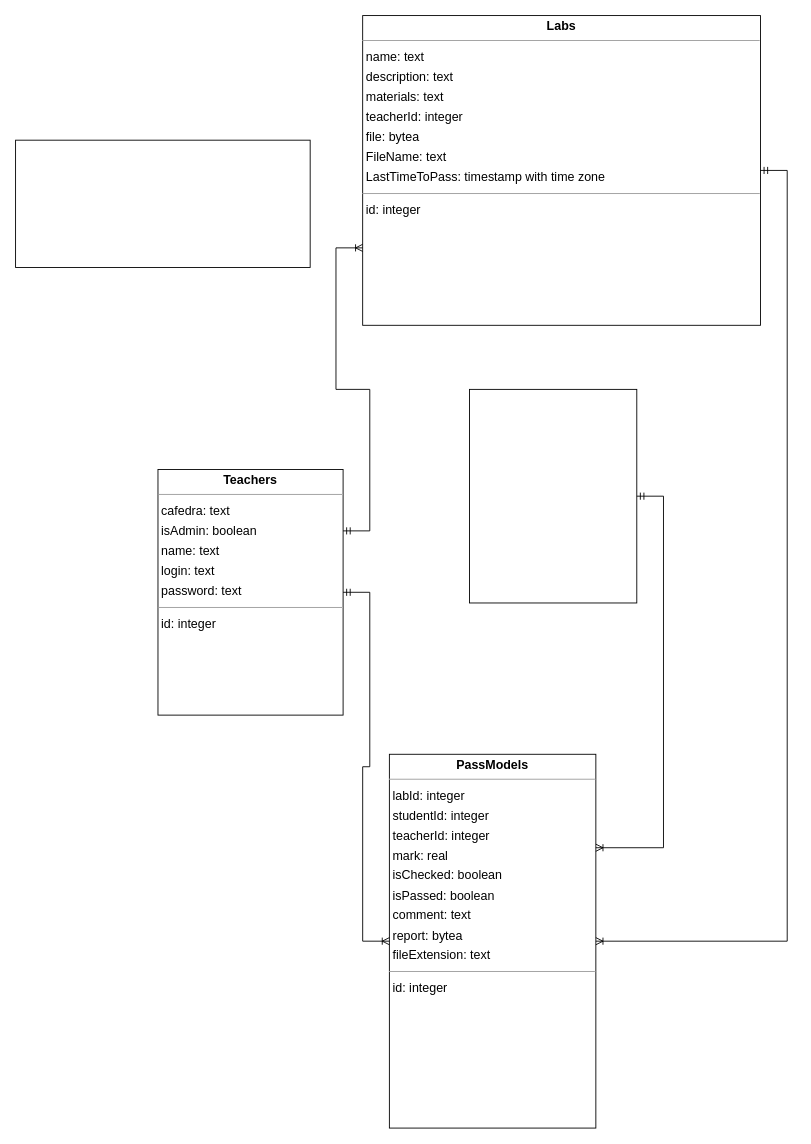
This 811x1144 diagram has some shape labels left out. Here are the shapes that lost their labels. From the top down, the centre of each, then its label:
(x=162, y=203): __EFMigrationsHistory ProductVersion: varchar(32) MigrationId: varchar(150)
(x=553, y=495): Students group: text name: text login: text password: text id: integer
